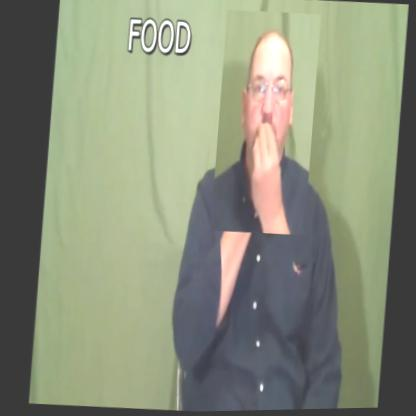Food: (211, 9, 321, 238)
